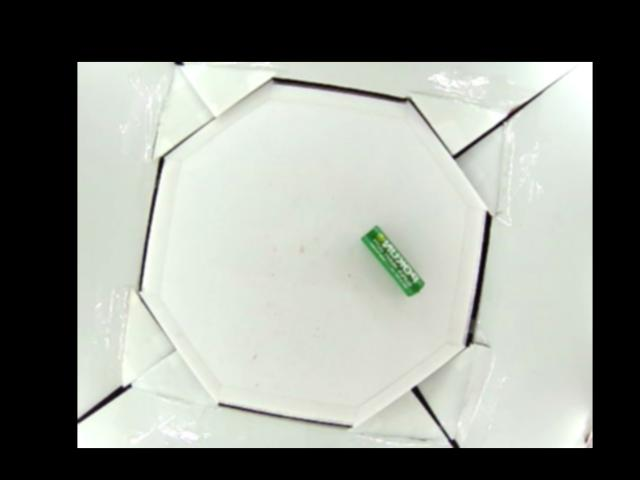Battery: (360, 225, 425, 298)
